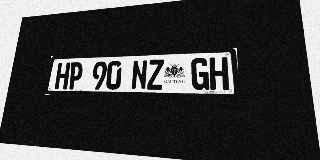0: (105, 61, 122, 90)
9: (91, 61, 108, 90)
G: (191, 58, 209, 90)
H: (209, 57, 229, 90), (54, 62, 70, 89)
N: (131, 60, 148, 90)
P: (67, 62, 84, 89)
Z: (147, 59, 164, 90)
